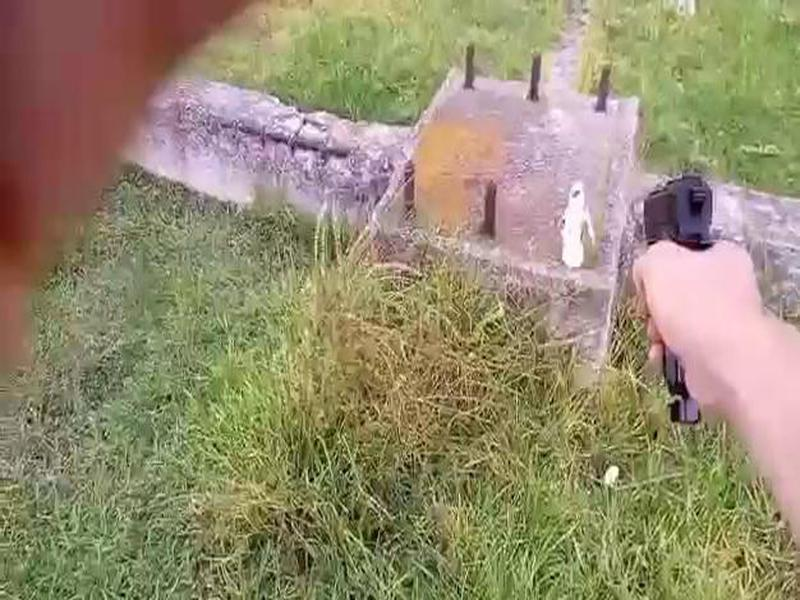Pistola: (623, 167, 729, 396)
